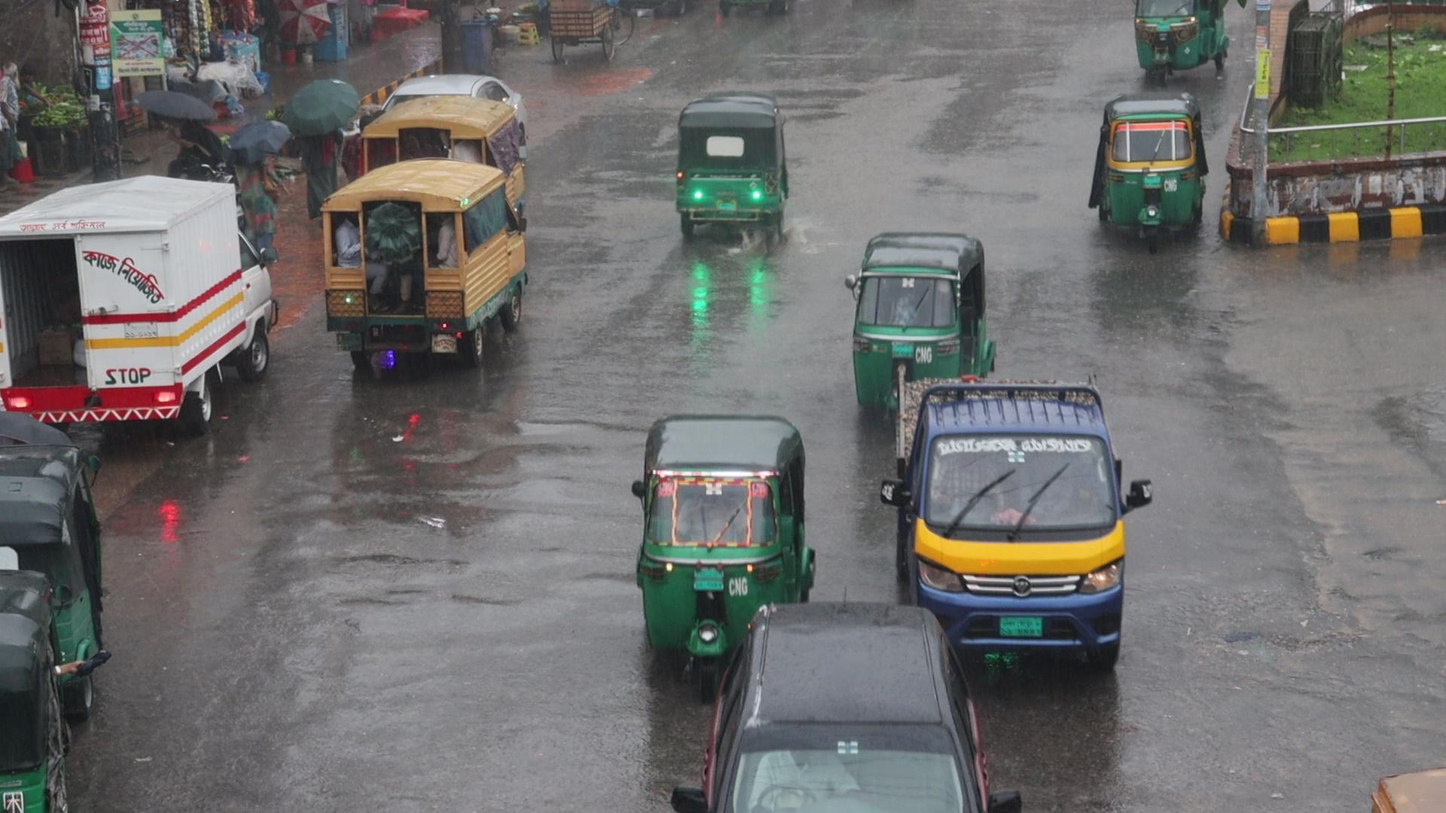Car: (710, 501, 994, 813)
Truck: (889, 367, 1131, 682), (309, 155, 522, 384)
